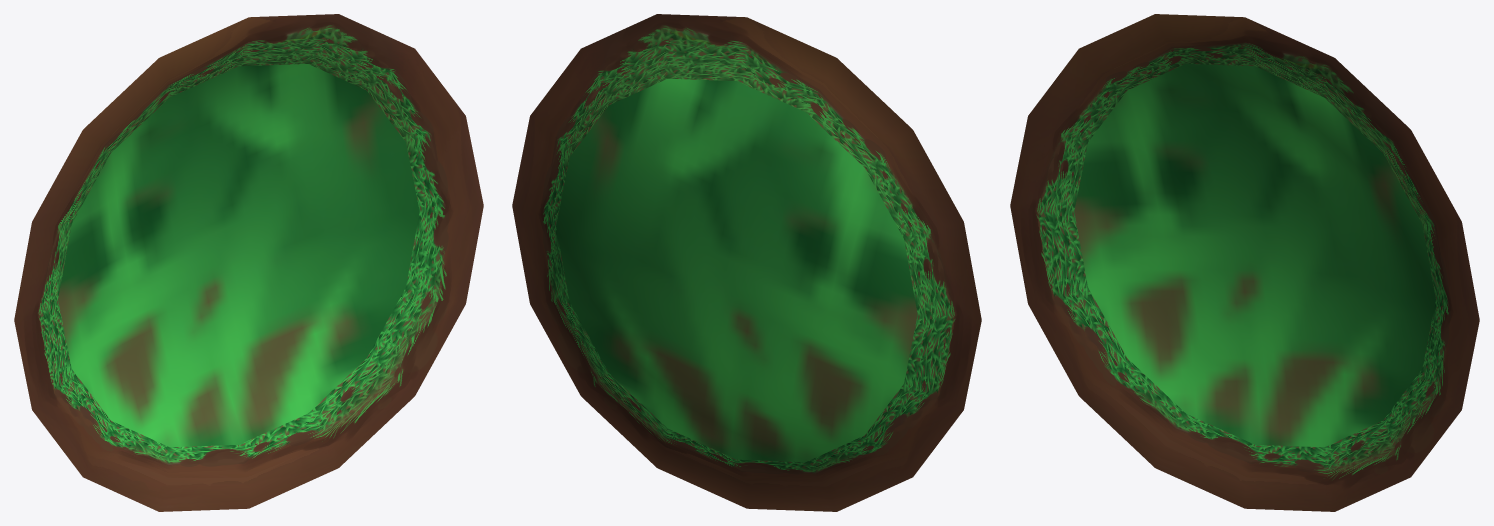
The model's file is Island.FBX.
3 views of the same model, side by side, from view 1: azimuth 30°, elevation 25°; view 2: azimuth 150°, elevation 25°; view 3: azimuth 330°, elevation 25° (orthographic).
Visible parts, largest first — view 1: Island; view 2: Island; view 3: Island.
Boxes of the visible parts, x1=… form: Island: x1=14, y1=14, x2=483, y2=511; Island: x1=512, y1=14, x2=981, y2=511; Island: x1=1010, y1=14, x2=1479, y2=511.
Bounding box in the file's own units: 148 × 148 × 12.13.
Materials: 2 (2 with a texture image).
